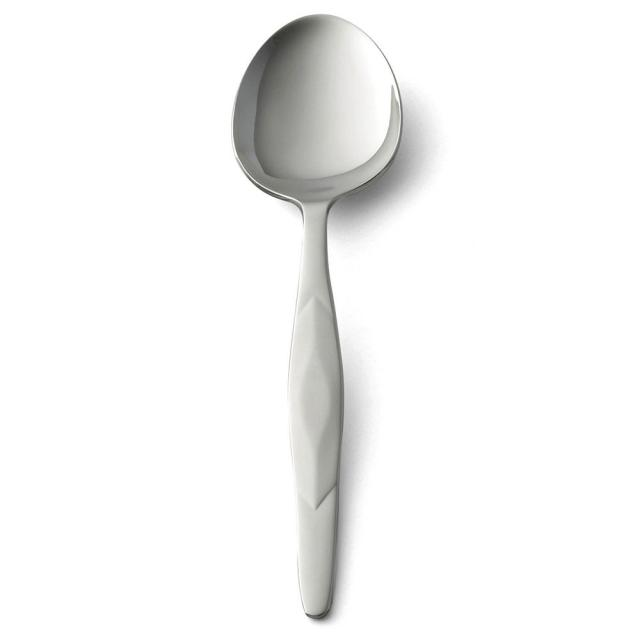spoon: (222, 0, 428, 626)
